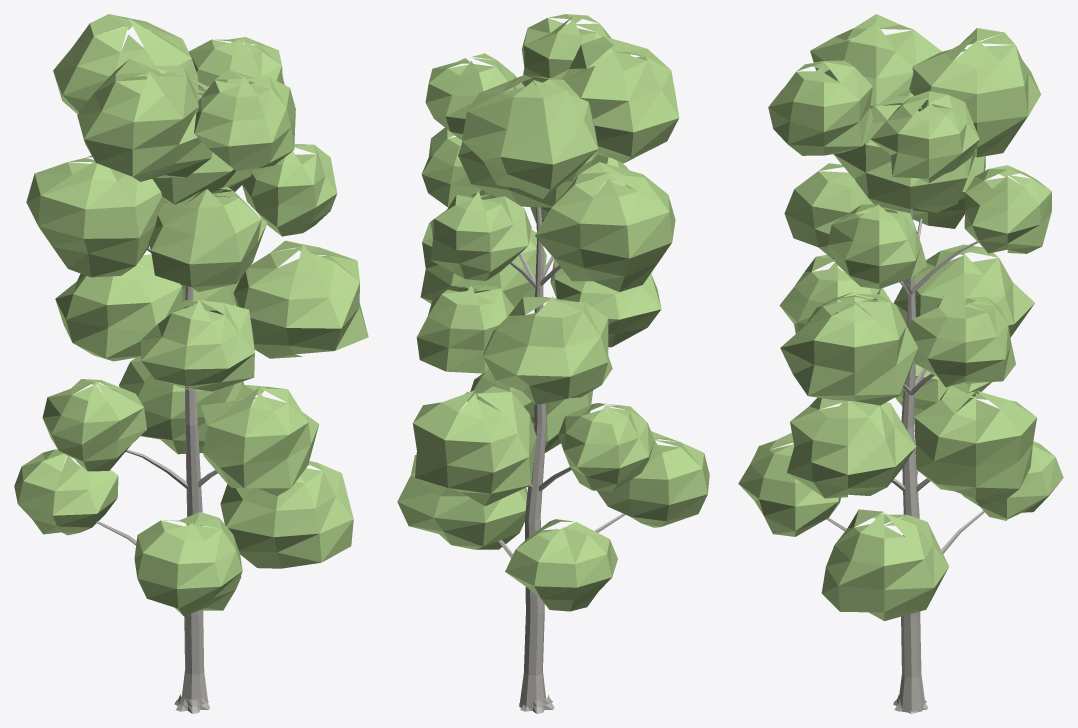
Rendered from temperate-forest-ecology-beech-young-a504ded7__3784.glb.
The picture shows the model from 3 angles, left to right: view 1: azimuth 30°, elevation 25°; view 2: azimuth 150°, elevation 25°; view 3: azimuth 270°, elevation 25°; orthographic projection. The views are drawn at different scales.
Parts seen in each view (by area): view 1: beech-young; view 2: beech-young; view 3: beech-young.
Boxes of the visible parts, left/top/right/bottom form: beech-young: left=14, top=14, right=368, bottom=713; beech-young: left=397, top=14, right=709, bottom=713; beech-young: left=738, top=14, right=1063, bottom=713.
Size of the model in its own units: 5.36 by 12.17 by 5.47.
